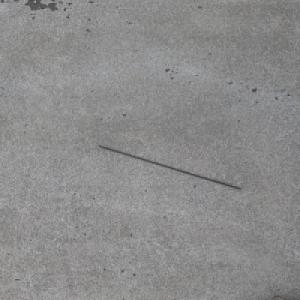LuggagePart: (97, 145, 242, 190)
